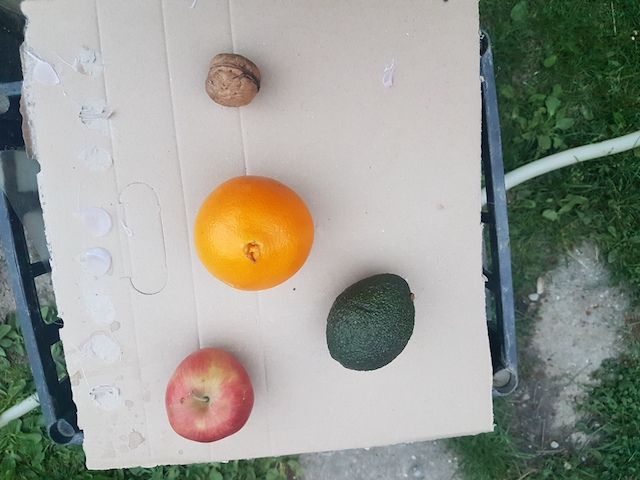apple: (163, 347, 256, 447)
avocado: (323, 273, 414, 375)
nut: (205, 50, 263, 110)
orange: (193, 176, 313, 292)
